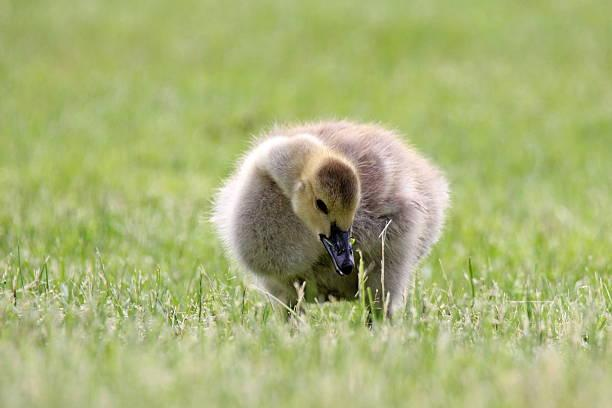Canadian-Goose: (220, 118, 445, 317)
